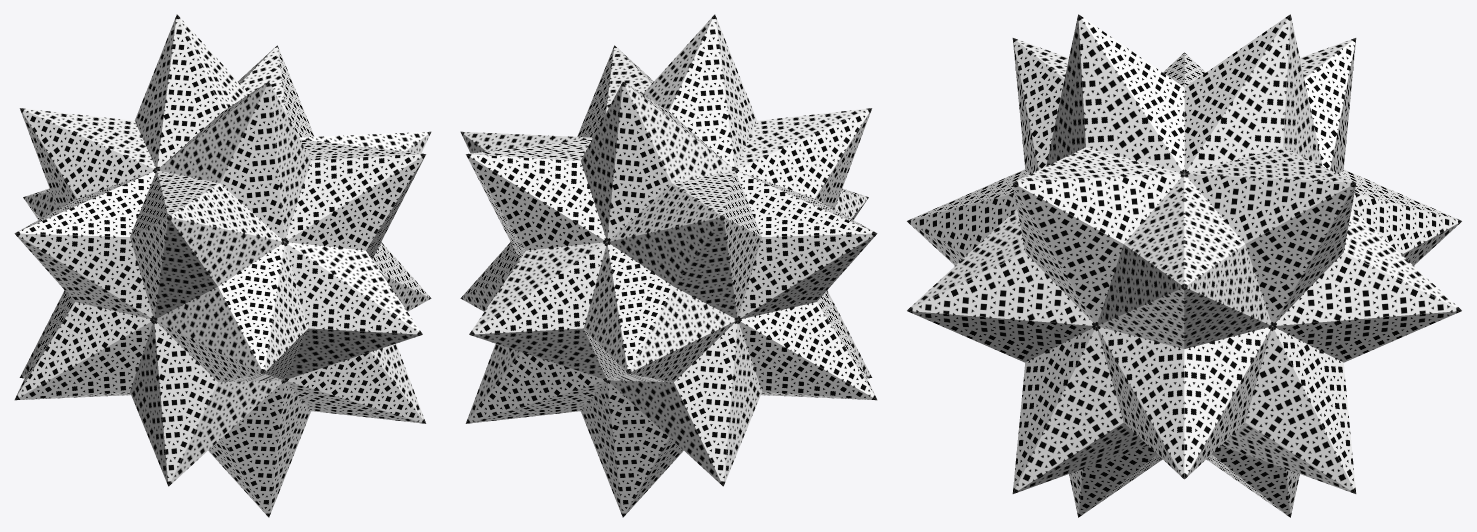
File: great-dodecicosacron.gltf
3 views of the same model, side by side, from view 1: azimuth 30°, elevation 25°; view 2: azimuth 150°, elevation 25°; view 3: azimuth 270°, elevation 25° (orthographic). The views are drawn at different scales.
Visible parts, largest first — view 1: Great Dodecicosacron (Dual of 10/3.6.10/7.6/5), WD101, p67; view 2: Great Dodecicosacron (Dual of 10/3.6.10/7.6/5), WD101, p67; view 3: Great Dodecicosacron (Dual of 10/3.6.10/7.6/5), WD101, p67.
Part boxes in pixels (box(x1,y1,x2,y2)): Great Dodecicosacron (Dual of 10/3.6.10/7.6/5), WD101, p67: box(14, 14, 431, 517); Great Dodecicosacron (Dual of 10/3.6.10/7.6/5), WD101, p67: box(460, 14, 877, 517); Great Dodecicosacron (Dual of 10/3.6.10/7.6/5), WD101, p67: box(907, 14, 1461, 517).
Size of the model in its own units: 55.25 by 55.25 by 55.25.
1 material, 1 textured.
